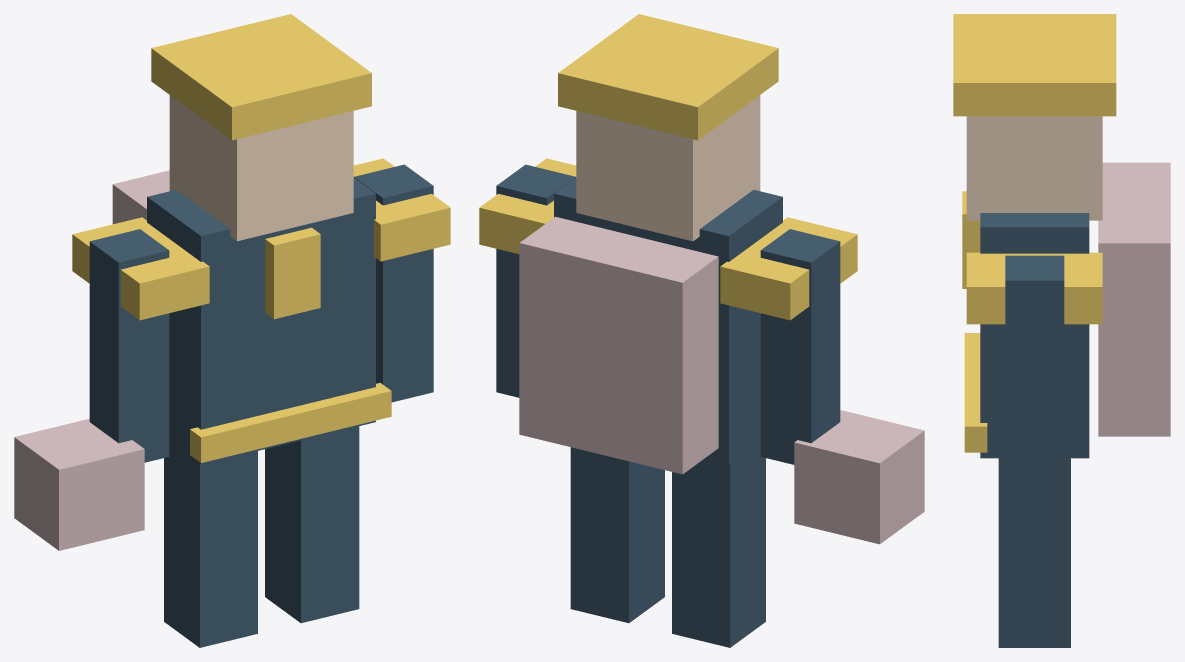
Rendered from 02_lyric_ashvein_watcher_at_adaptive.glb.
The picture shows the model from 3 angles, left to right: view 1: azimuth 30°, elevation 25°; view 2: azimuth 150°, elevation 25°; view 3: azimuth 270°, elevation 25°; orthographic projection.
Parts seen in each view (by area): view 1: Lyric Ashvein, Watcher at Adaptive; view 2: Lyric Ashvein, Watcher at Adaptive; view 3: Lyric Ashvein, Watcher at Adaptive.
Boxes of the visible parts, x1,y1,x2,y2 form: Lyric Ashvein, Watcher at Adaptive: (14,14,450,647); Lyric Ashvein, Watcher at Adaptive: (479,14,924,647); Lyric Ashvein, Watcher at Adaptive: (953,14,1170,647).
Size of the model in its own units: 1.03 by 1.41 by 0.4957.
